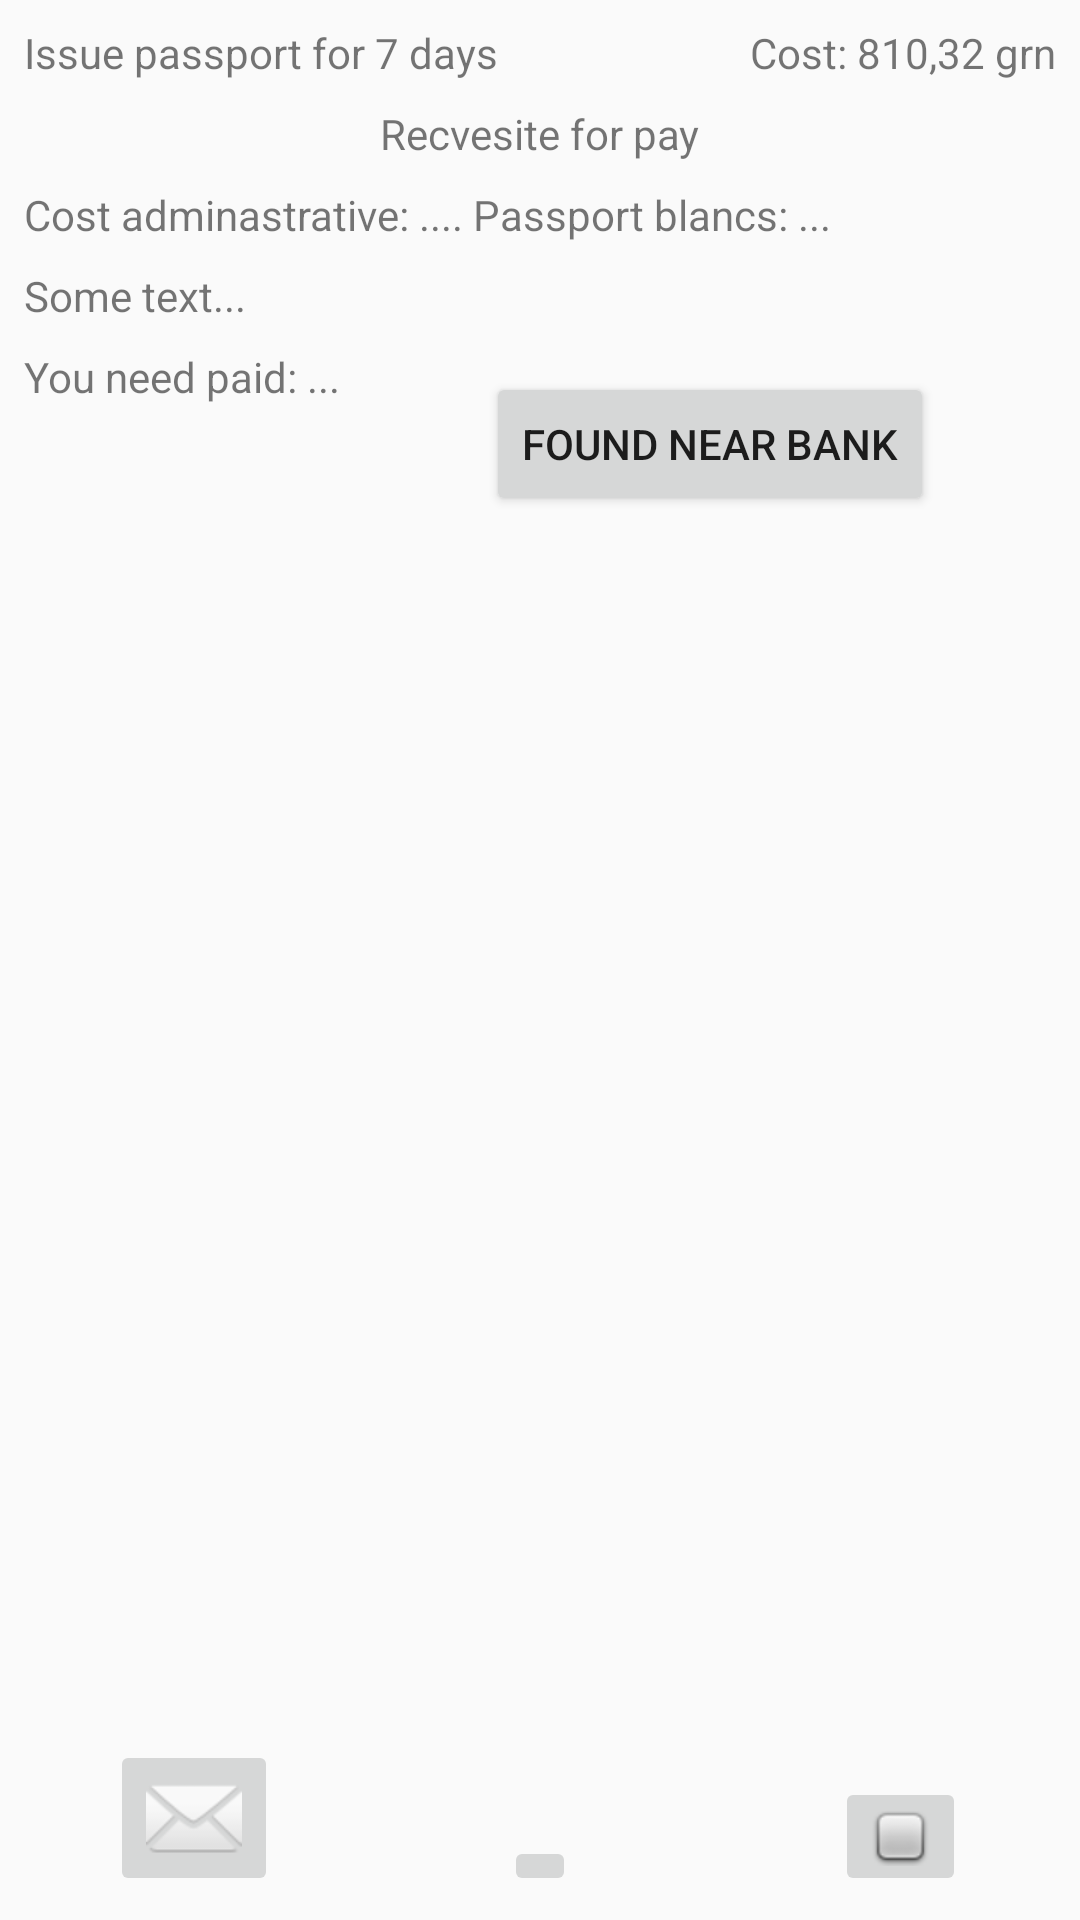

Point at icon controls on the screen. Image size 1080*1920, points as (x,y).
email: (194,1818)
